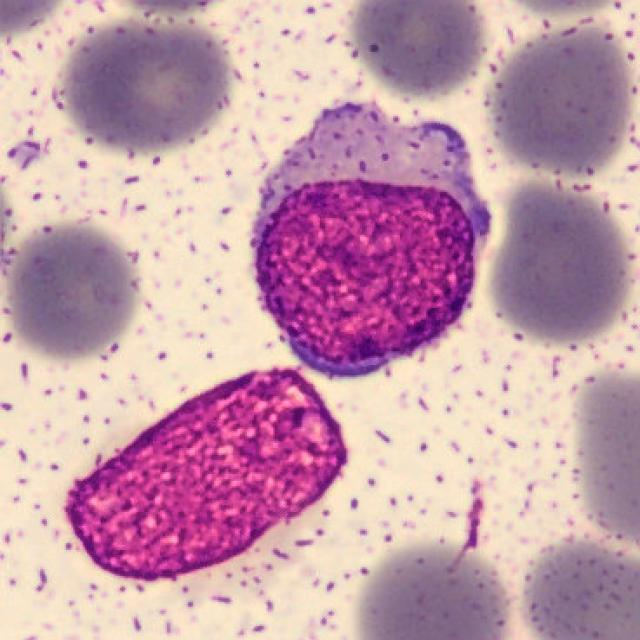Mieloblasto: (250, 104, 489, 379)
